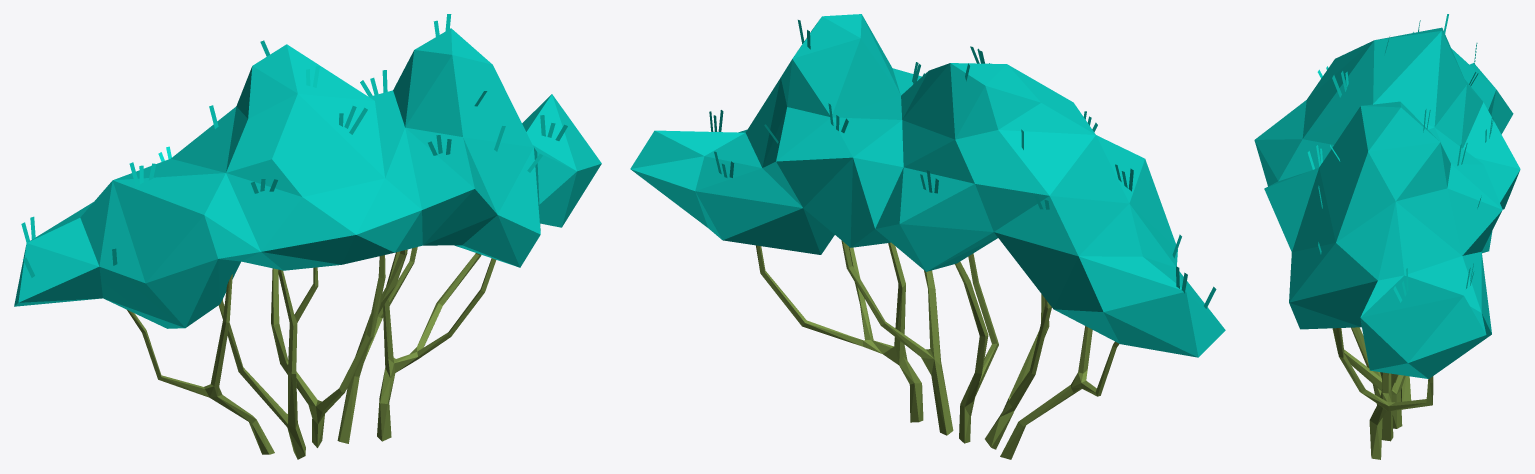
File: Bush_Fantasy_03.fbx
The picture shows the model from 3 angles, left to right: view 1: azimuth 30°, elevation 25°; view 2: azimuth 150°, elevation 25°; view 3: azimuth 270°, elevation 25°; orthographic projection. The views are drawn at different scales.
Parts seen in each view (by area): view 1: Bush_Fantasy_03; view 2: Bush_Fantasy_03; view 3: Bush_Fantasy_03.
Part boxes in pixels (left/top/right/bottom): Bush_Fantasy_03: left=14, top=14, right=601, bottom=459; Bush_Fantasy_03: left=630, top=14, right=1225, bottom=459; Bush_Fantasy_03: left=1254, top=14, right=1520, bottom=459.
Size of the model in its own units: 187 by 126 by 74.82.
